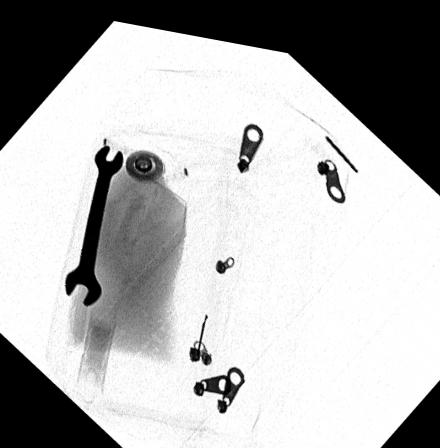Wrench: (62, 139, 124, 304)
